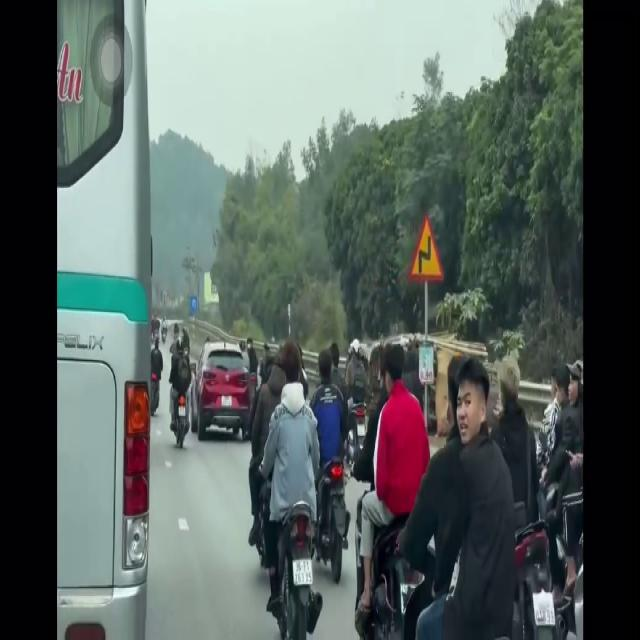no_helmet: (459, 365, 486, 463), (497, 359, 524, 424), (387, 345, 406, 412), (286, 350, 303, 399), (317, 352, 335, 397)
